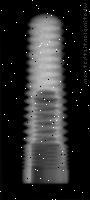Implant Direct: (22, 12, 70, 184)
